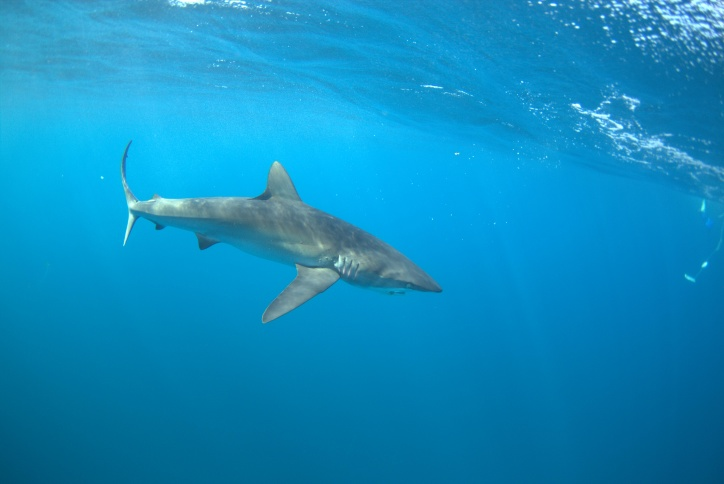Sedoso: (75, 126, 460, 349)
